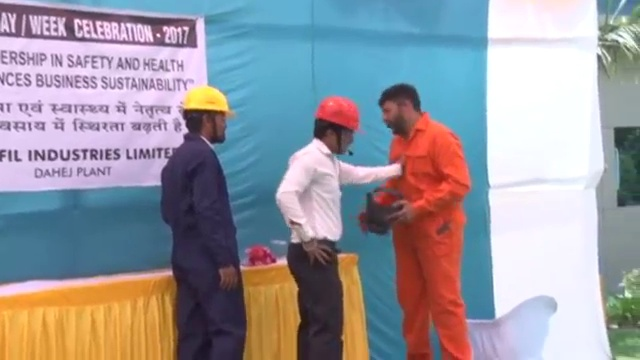helmet: (181, 83, 236, 118), (312, 94, 361, 132)
helmet_off: (378, 82, 423, 135)
helmet_on: (179, 82, 237, 147), (312, 94, 361, 158)
person: (277, 93, 408, 360), (379, 81, 472, 360), (158, 82, 248, 360)
